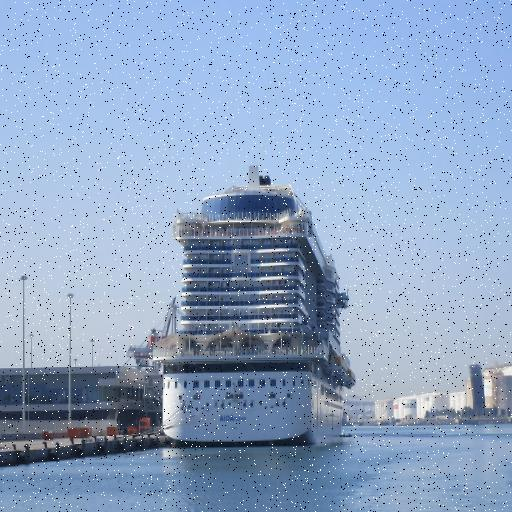cruises: (146, 161, 358, 454)
